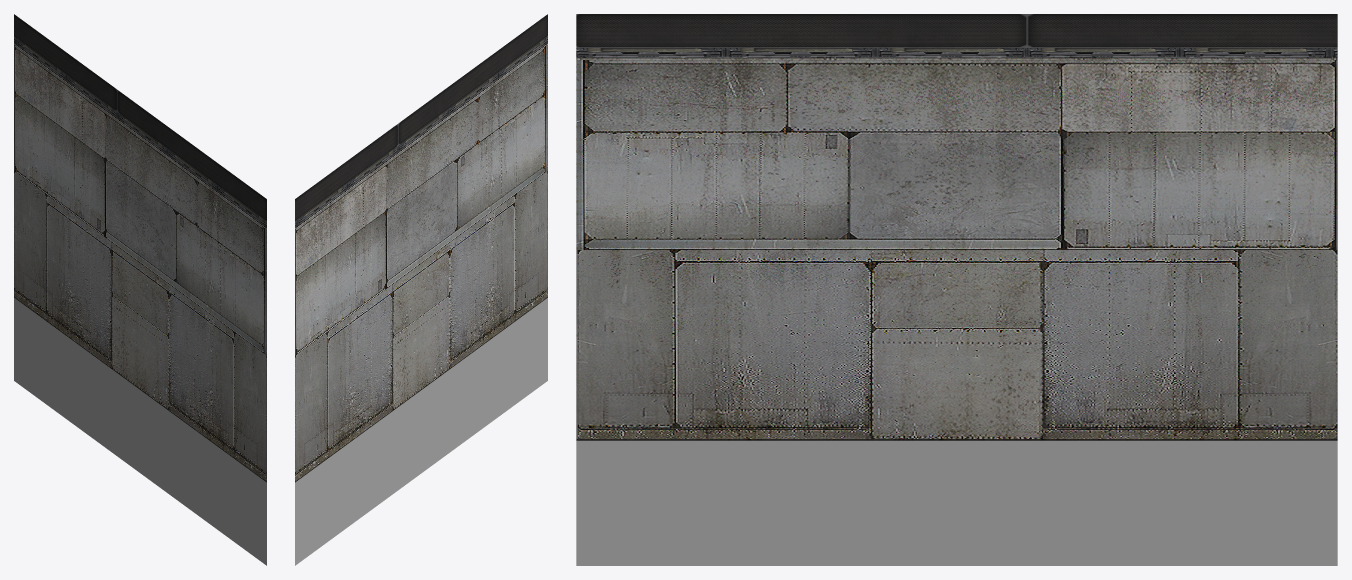
Rendered from Wall_A_Mid4mts_00.fbx.
3 views of the same model, side by side, from view 1: azimuth 30°, elevation 25°; view 2: azimuth 150°, elevation 25°; view 3: azimuth 270°, elevation 25° (orthographic). The views are drawn at different scales.
Visible parts, largest first — view 1: Wall_A_Mid4mts_00; view 2: Wall_A_Mid4mts_00; view 3: Wall_A_Mid4mts_00.
Boxes of the visible parts, box(x1,y1,x2,y2) form: Wall_A_Mid4mts_00: box(14, 14, 266, 565); Wall_A_Mid4mts_00: box(295, 14, 547, 565); Wall_A_Mid4mts_00: box(576, 14, 1337, 565).
Size of the model in its own units: 5.91e-12 by 400 by 500.
